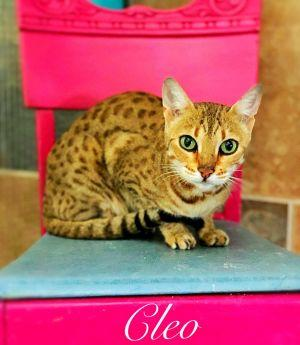bengal: (158, 73, 269, 195)
